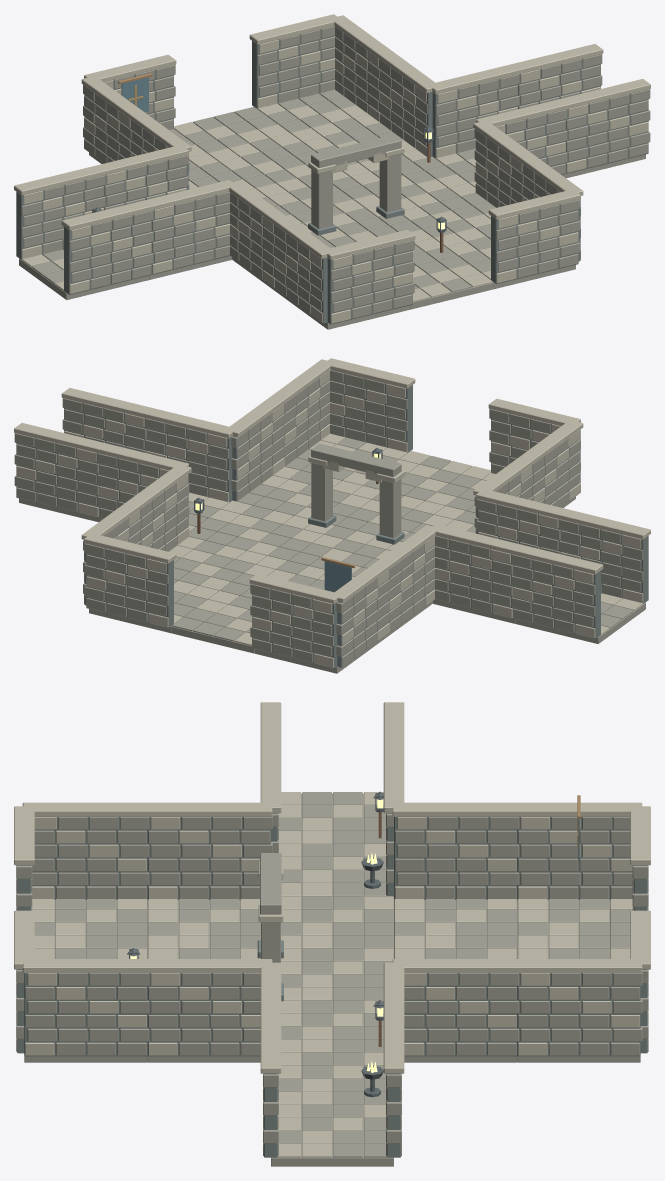
File: tv_44_03_dungeon_junction.glb
3 views of the same model, one above another, from view 1: azimuth 30°, elevation 25°; view 2: azimuth 150°, elevation 25°; view 3: azimuth 270°, elevation 25° (orthographic). The views are drawn at different scales.
Visible parts, largest first — view 1: wall_0030, wall_0020, wall_0024, wall_0038, wall_0034, wall_0022, wall_0019, wall_0035, arch_0039, wall_0023, wall_0032, wall_0037 (+25 smaller); view 2: wall_0034, wall_0019, wall_0027, wall_0037, wall_0030, wall_0021, wall_0020, wall_0036, arch_0039, wall_0031, wall_0028, wall_0038 (+25 smaller); view 3: wall_0029, wall_0026, wall_0033, wall_0025, wall_0023, wall_0032, wall_0031, wall_0028, floor_stone_0018, floor_stone_0005, floor_stone_0004, floor_stone_0006 (+28 smaller).
Part boxes in pixels (x1=…): wall_0030: x1=488, y1=189, x2=580, y2=283; wall_0020: x1=61, y1=200, x2=153, y2=294; wall_0024: x1=324, y1=229, x2=415, y2=324; wall_0038: x1=561, y1=79, x2=650, y2=173; wall_0034: x1=249, y1=14, x2=340, y2=108; wall_0022: x1=145, y1=180, x2=235, y2=274; wall_0019: x1=14, y1=165, x2=105, y2=259; wall_0035: x1=429, y1=64, x2=519, y2=158; arch_0039: x1=308, y1=134, x2=404, y2=235; wall_0023: x1=273, y1=216, x2=333, y2=323; wall_0032: x1=377, y1=50, x2=438, y2=156; wall_0037: x1=512, y1=44, x2=603, y2=108; wall_0034: x1=84, y1=533, x2=176, y2=627; wall_0019: x1=511, y1=544, x2=603, y2=638; wall_0027: x1=249, y1=573, x2=340, y2=668; wall_0037: x1=14, y1=423, x2=103, y2=517; wall_0030: x1=324, y1=358, x2=415, y2=452; wall_0021: x1=429, y1=524, x2=518, y2=618; wall_0020: x1=559, y1=509, x2=650, y2=603; wall_0036: x1=145, y1=408, x2=235, y2=502; arch_0039: x1=308, y1=443, x2=404, y2=544; wall_0031: x1=226, y1=394, x2=286, y2=501; wall_0028: x1=333, y1=560, x2=391, y2=667; wall_0038: x1=61, y1=388, x2=152, y2=452; wall_0029: x1=22, y1=959, x2=149, y2=1056; wall_0026: x1=392, y1=802, x2=519, y2=899; wall_0033: x1=516, y1=959, x2=642, y2=1056; wall_0025: x1=146, y1=802, x2=272, y2=899; wall_0023: x1=22, y1=802, x2=149, y2=899; wall_0032: x1=392, y1=959, x2=519, y2=1056; wall_0031: x1=146, y1=959, x2=272, y2=1056; wall_0028: x1=516, y1=802, x2=642, y2=899; floor_stone_0018: x1=271, y1=1104, x2=393, y2=1166; floor_stone_0005: x1=394, y1=899, x2=517, y2=949; floor_stone_0004: x1=281, y1=896, x2=393, y2=949; floor_stone_0006: x1=517, y1=899, x2=632, y2=949.
Bounding box in the file's own units: 28.11 × 4.13 × 20.67.
